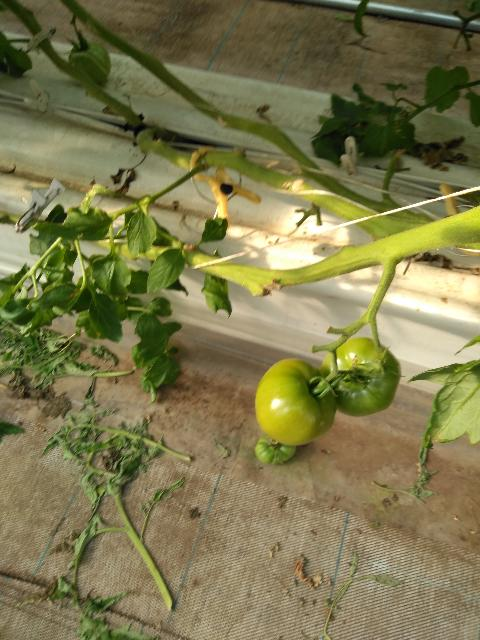b_green: (255, 359, 337, 445), (321, 336, 402, 418), (68, 41, 110, 84), (255, 433, 296, 464)
